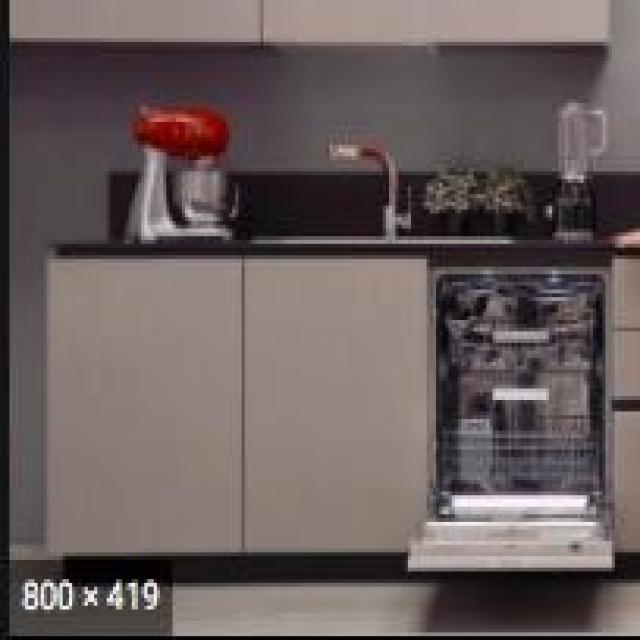dishwasher: (401, 243, 615, 568)
